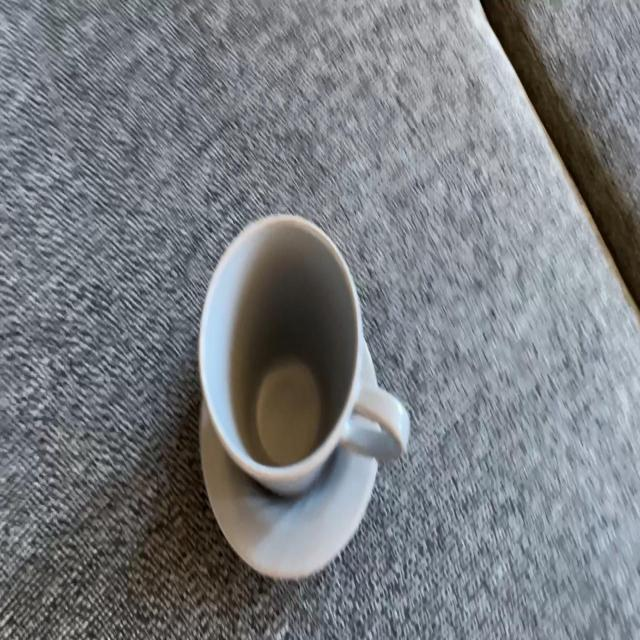cup: (190, 203, 370, 527)
